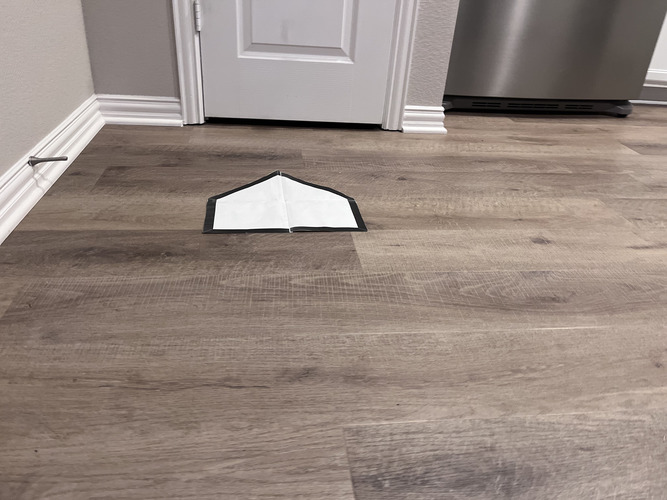homeplate: (203, 170, 367, 232)
